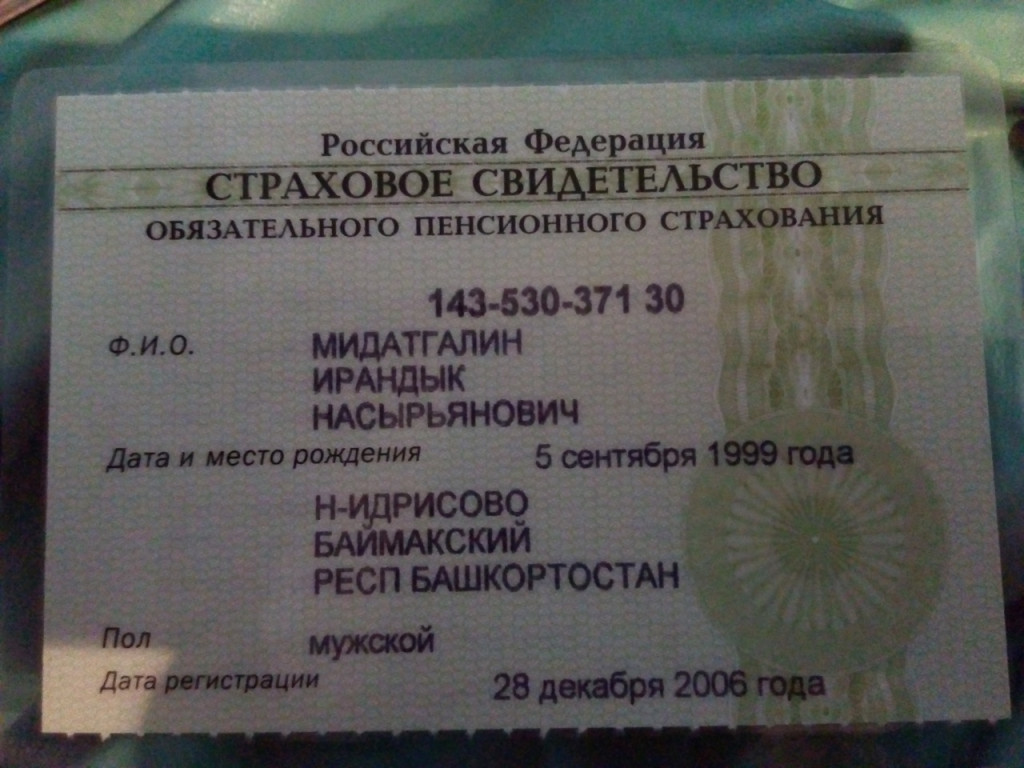text: (308, 487, 682, 600), (532, 436, 861, 477), (421, 274, 693, 320), (489, 666, 833, 702), (307, 397, 591, 432), (308, 323, 529, 361), (305, 362, 481, 395), (303, 624, 446, 661)
